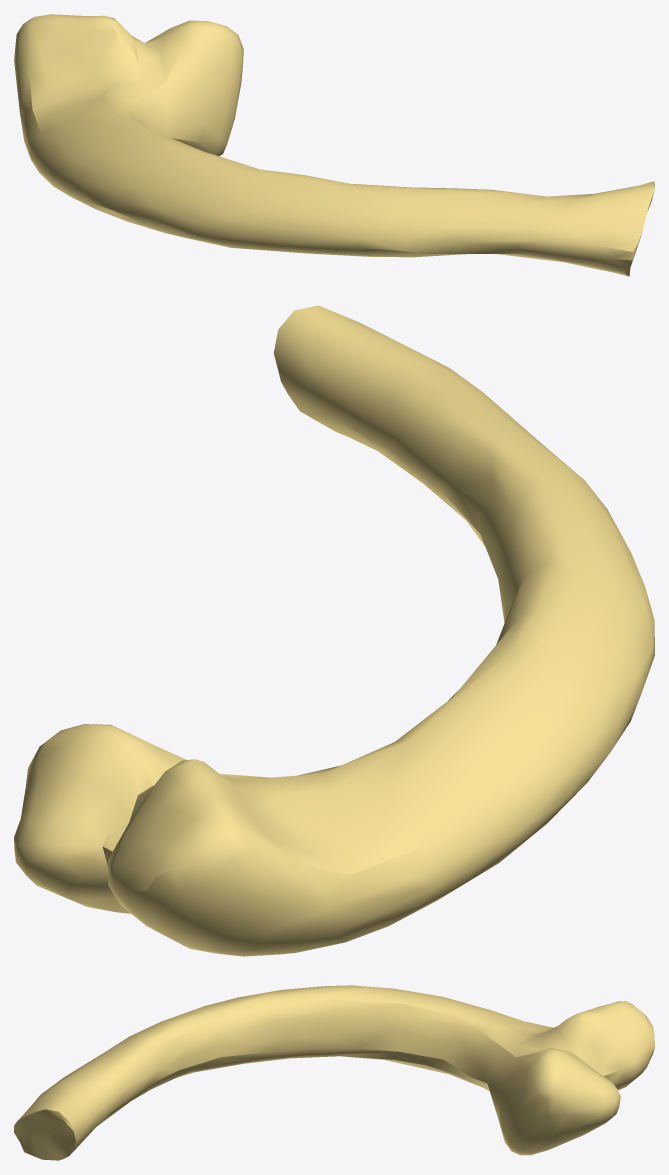
Rendered from fma62382_fj7502.glb.
The picture shows the model from 3 angles, top to bottom: view 1: azimuth 30°, elevation 25°; view 2: azimuth 150°, elevation 25°; view 3: azimuth 270°, elevation 25°; orthographic projection. The views are drawn at different scales.
Parts seen in each view (by area): view 1: FMA62382_FJ7502; view 2: FMA62382_FJ7502; view 3: FMA62382_FJ7502.
Part boxes in pixels (box(x1,y1,x2,y2)): FMA62382_FJ7502: box(14, 14, 654, 276); FMA62382_FJ7502: box(14, 305, 654, 956); FMA62382_FJ7502: box(14, 985, 654, 1160).
Bounding box in the file's own units: 0.0201 × 0.00678 × 0.0342.
